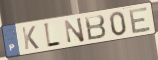0: (109, 10, 129, 38)
B: (83, 14, 108, 42)
E: (128, 5, 153, 35)
K: (21, 25, 41, 51)
L: (43, 21, 63, 50)
N: (63, 16, 86, 45)
